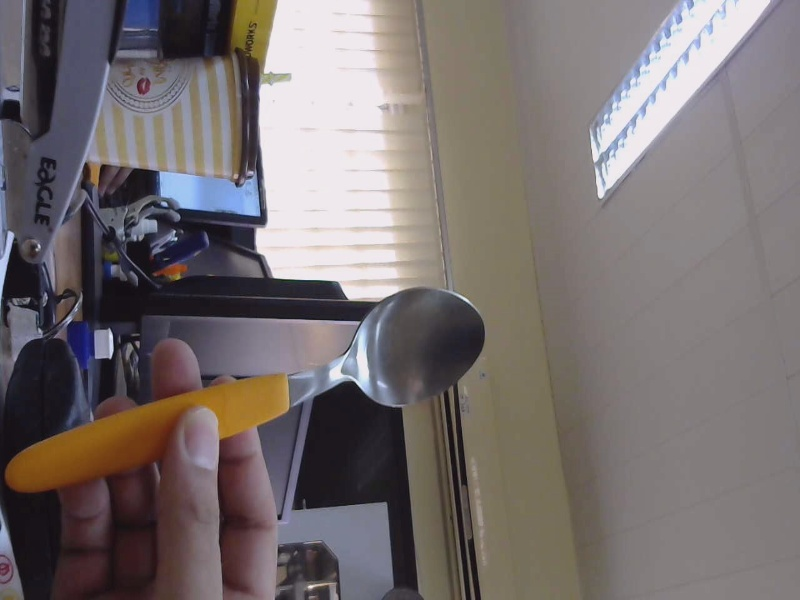cuchara: (10, 284, 520, 496)
